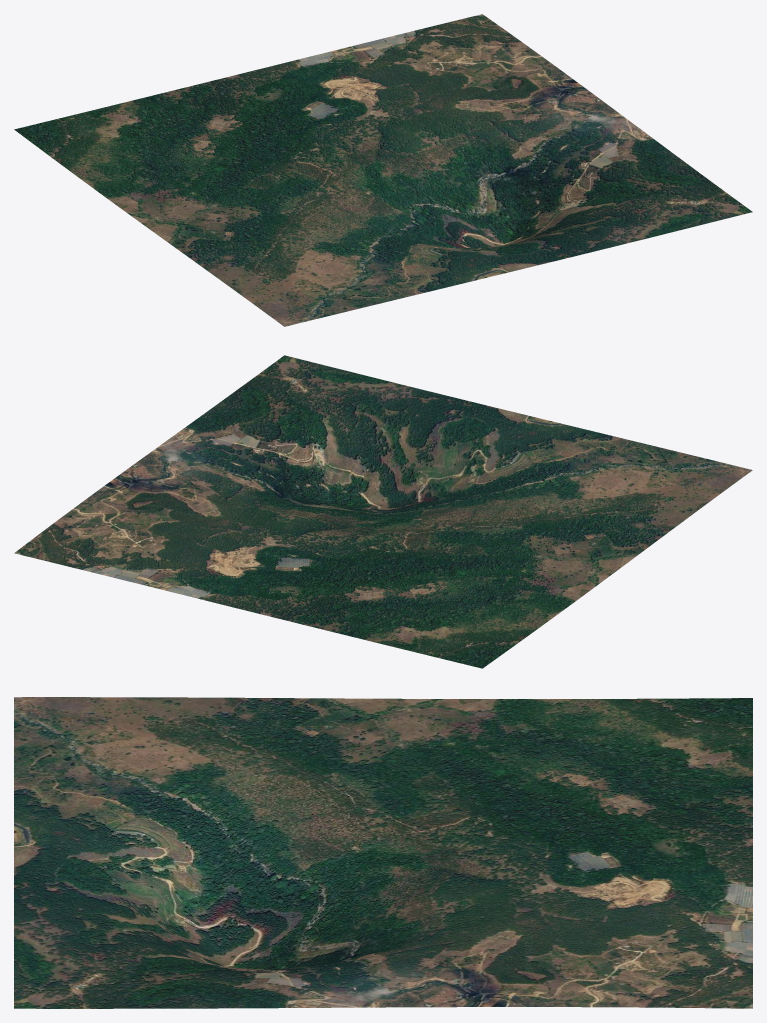
File: terrain_real_T_W04_N01.glb
3 renders of one model, top to bottom at view 1: azimuth 30°, elevation 25°; view 2: azimuth 150°, elevation 25°; view 3: azimuth 270°, elevation 25°, orthographic. The views are drawn at different scales.
Visible parts, largest first — view 1: Terrain_Real_DEM_T_W04_N01; view 2: Terrain_Real_DEM_T_W04_N01; view 3: Terrain_Real_DEM_T_W04_N01.
Part boxes in pixels (left/top/right/bottom): Terrain_Real_DEM_T_W04_N01: left=14, top=14, right=752, bottom=326; Terrain_Real_DEM_T_W04_N01: left=14, top=355, right=752, bottom=668; Terrain_Real_DEM_T_W04_N01: left=14, top=697, right=752, bottom=1008.
Bounding box in the file's own units: 2000 × 209 × 2000.
Materials: 1 (1 with a texture image).
